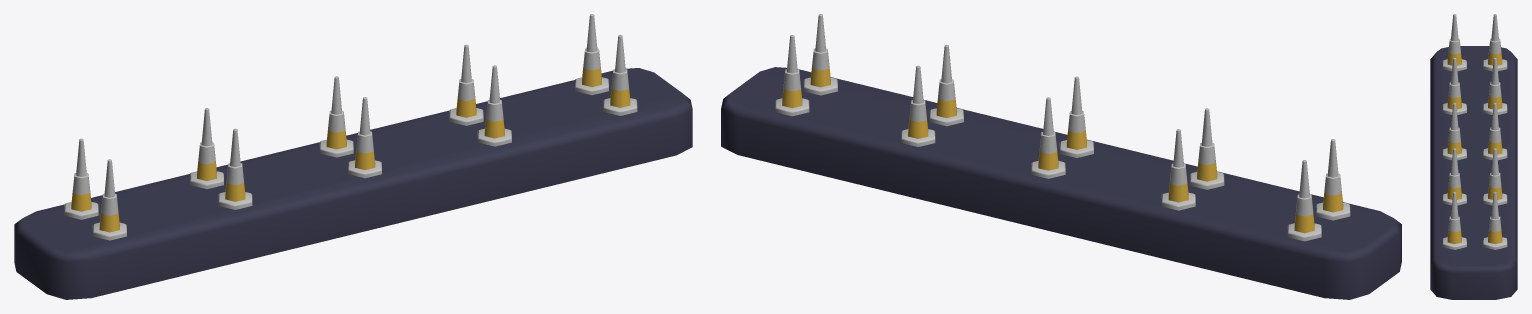
File: Level20_Spikes.fbx
3 renders of one model, left to right at view 1: azimuth 30°, elevation 25°; view 2: azimuth 150°, elevation 25°; view 3: azimuth 270°, elevation 25°, orthographic. The views are drawn at different scales.
Parts seen in each view (by area): view 1: Base, spike5, spike, spike6, spike8, spike2, spike3, spike7, spike4, spike1, spike9; view 2: Base, spike8, spike3, spike6, spike2, spike5, spike1, spike7, spike9, spike4, spike; view 3: Base, Base_spike (×10), spike8, spike9, spike5, spike4, spike1, spike2, spike3, spike, spike6, spike7.
Part boxes in pixels (x1,y1,x2,y2): Base: (14, 68, 692, 299); spike5: (326, 76, 346, 149); spike: (71, 138, 91, 211); spike6: (484, 65, 504, 138); spike8: (610, 34, 630, 107); spike2: (225, 128, 245, 201); spike3: (99, 159, 119, 232); spike7: (456, 44, 476, 117); spike4: (355, 97, 375, 169); spike1: (197, 108, 216, 180); spike9: (582, 14, 601, 86); Base: (721, 67, 1401, 299); spike8: (810, 14, 830, 87); spike3: (1323, 139, 1343, 212); spike6: (936, 44, 956, 117); spike2: (1197, 108, 1217, 181); spike5: (1038, 97, 1058, 170); spike1: (1168, 129, 1188, 202); spike7: (908, 65, 928, 138); spike9: (782, 35, 802, 108); spike4: (1066, 76, 1086, 149); spike: (1294, 160, 1314, 233); Base: (1430, 46, 1517, 299); Base_spike (×10): (1442, 59, 1507, 249); spike8: (1447, 192, 1461, 244); spike9: (1488, 192, 1502, 244); spike5: (1488, 103, 1502, 154); spike4: (1447, 103, 1461, 154); spike1: (1488, 57, 1502, 109); spike2: (1447, 57, 1461, 109); spike3: (1447, 14, 1461, 65); spike: (1488, 14, 1502, 65); spike6: (1447, 148, 1461, 199); spike7: (1488, 148, 1502, 199).
Size of the model in its own units: 101 by 17.49 by 16.52.
